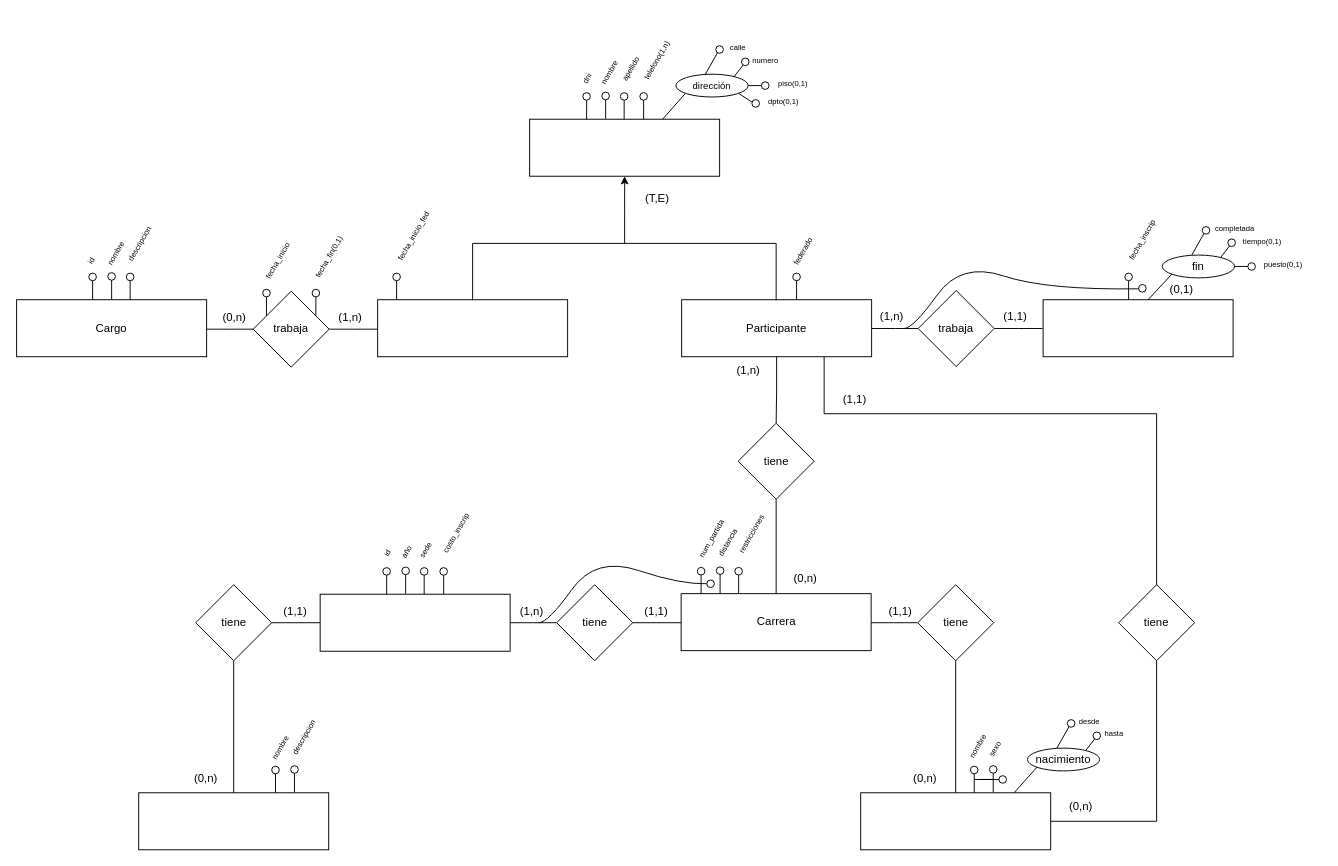
Image size: 1338x866. Some labels were removed from this diagram. Each missing label, with the centre of its shape:
"Categoria" belongs at [955,821].
"Directivo" belongs at [472,328].
"Inscripcion" belongs at [1137,328].
"Persona" belongs at [624,147].
"Regata" belongs at [414,622].
"Tipo_Regata" belongs at [233,821].
